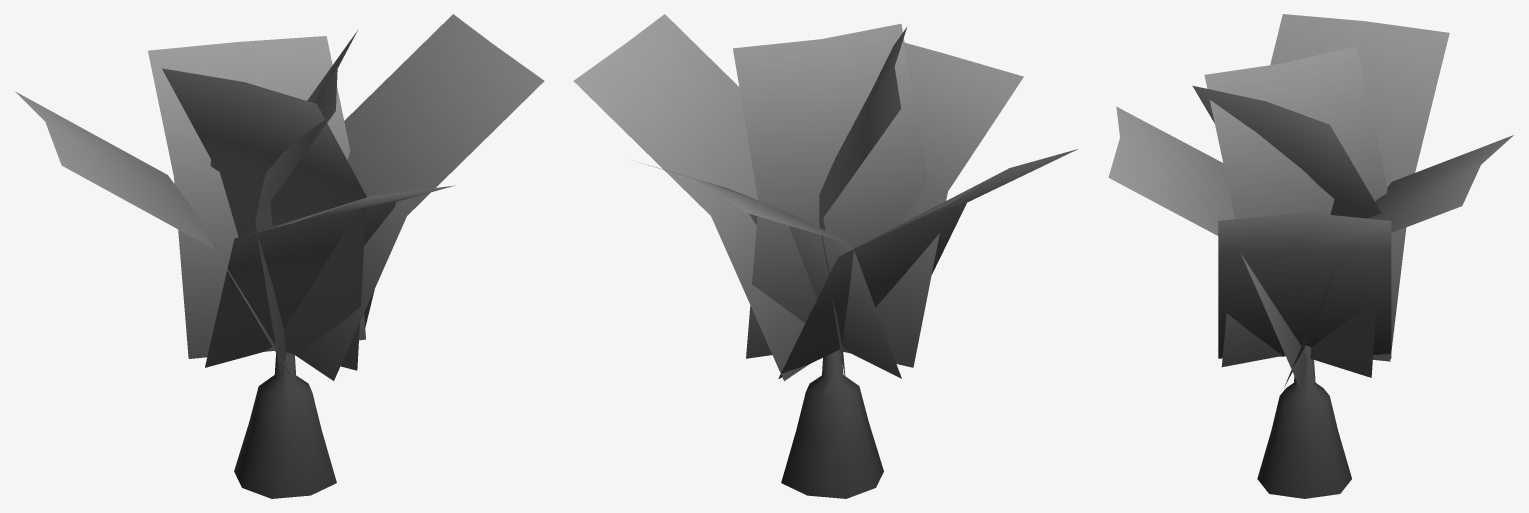
The model's file is RootGrowing_MESH_01.fbx.
3 views of the same model, side by side, from view 1: azimuth 30°, elevation 25°; view 2: azimuth 150°, elevation 25°; view 3: azimuth 270°, elevation 25° (orthographic). The views are drawn at different scales.
Parts seen in each view (by area): view 1: RootGrowing_MESH_01; view 2: RootGrowing_MESH_01; view 3: RootGrowing_MESH_01.
Boxes of the visible parts, x1,y1,x2,y2 form: RootGrowing_MESH_01: (15,14,544,498); RootGrowing_MESH_01: (573,14,1077,498); RootGrowing_MESH_01: (1108,14,1513,498).
Bounding box in the file's own units: 74.19 × 65.92 × 61.57.
